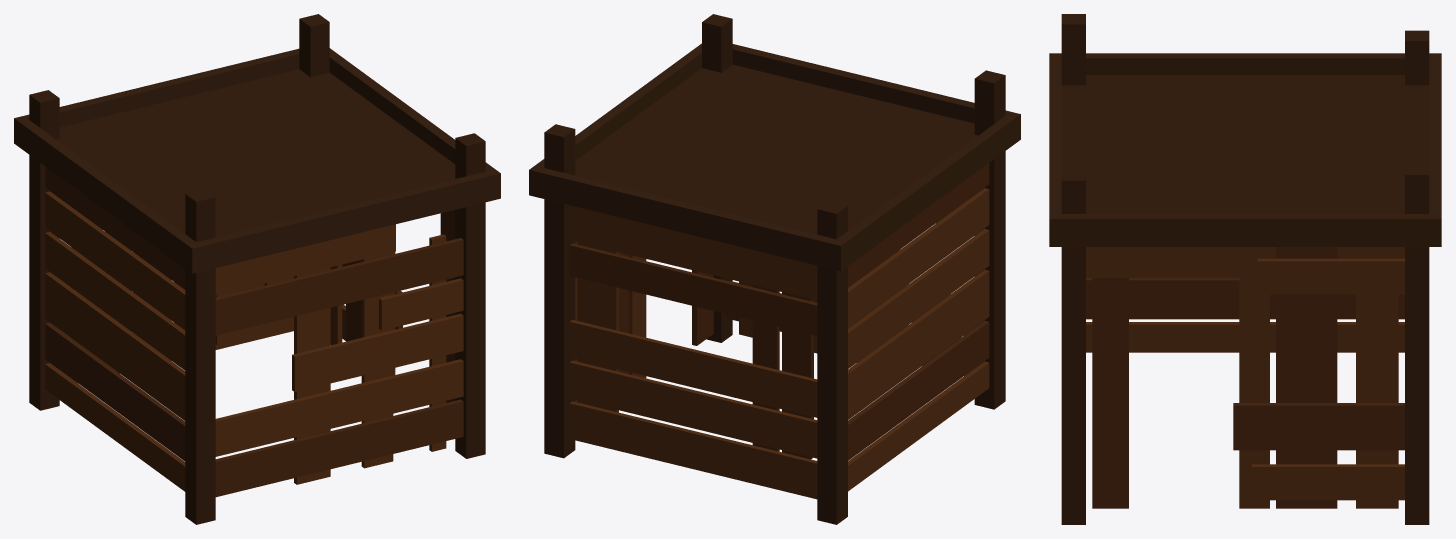
Rendered from house_1.obj.
The picture shows the model from 3 angles, left to right: view 1: azimuth 30°, elevation 25°; view 2: azimuth 150°, elevation 25°; view 3: azimuth 270°, elevation 25°; orthographic projection. The views are drawn at different scales.
Size of the model in its own units: 6.4 by 6.4 by 6.4.
1 material, 1 textured.
